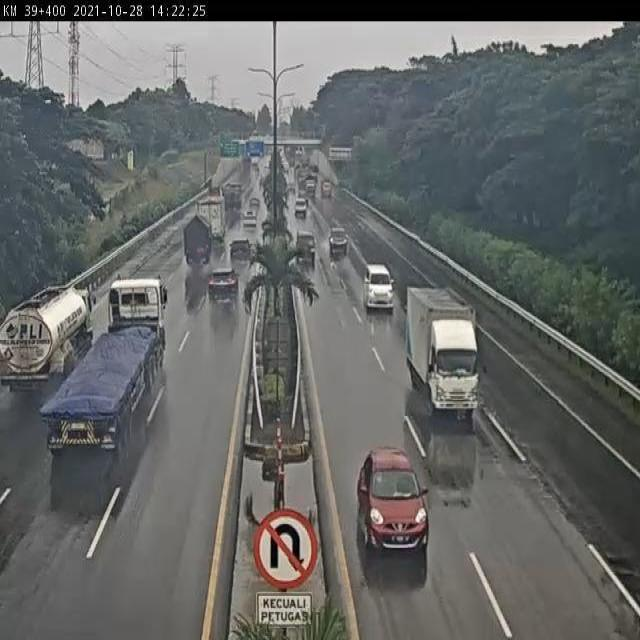ARABA: (356, 442, 432, 558), (358, 256, 390, 305), (206, 270, 239, 310), (226, 237, 252, 267)
KAMYONET: (405, 282, 482, 426), (0, 284, 92, 397), (182, 217, 213, 267)
TIR: (44, 278, 166, 450), (193, 199, 225, 248)
